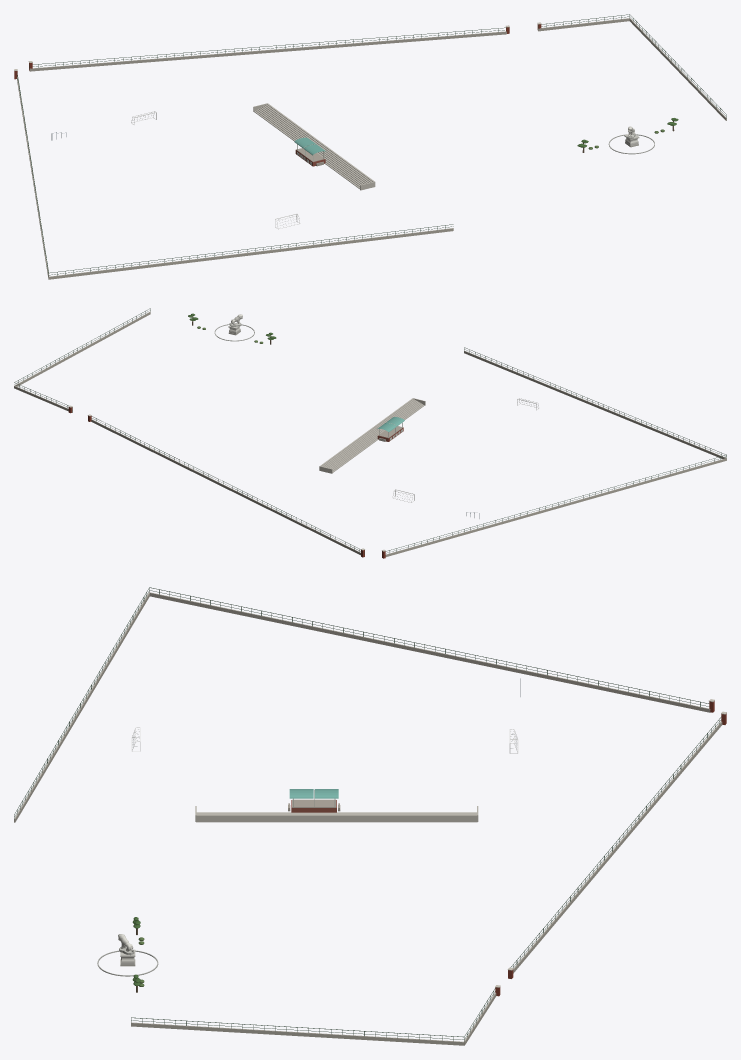
The picture shows the model from 3 angles, top to bottom: view 1: azimuth 30°, elevation 25°; view 2: azimuth 150°, elevation 25°; view 3: azimuth 270°, elevation 25°; orthographic projection. The views are drawn at different scales.
Visible parts, largest first — view 1: site-wall-concrete, site-fence, site-stand-concrete; view 2: site-wall-concrete, site-fence, site-stand-concrete; view 3: site-wall-concrete, site-fence, site-stand-concrete.
Boxes of the visible parts, bbox=[...] form: site-wall-concrete: bbox=[17, 18, 726, 279]; site-fence: bbox=[17, 14, 726, 276]; site-stand-concrete: bbox=[253, 103, 375, 190]; site-wall-concrete: bbox=[14, 311, 726, 556]; site-fence: bbox=[14, 308, 726, 554]; site-stand-concrete: bbox=[319, 398, 425, 473]; site-wall-concrete: bbox=[14, 592, 722, 1045]; site-fence: bbox=[14, 587, 721, 1041]; site-stand-concrete: bbox=[195, 806, 478, 822].
Bounding box in the file's own units: 234 × 8.08 × 157.
